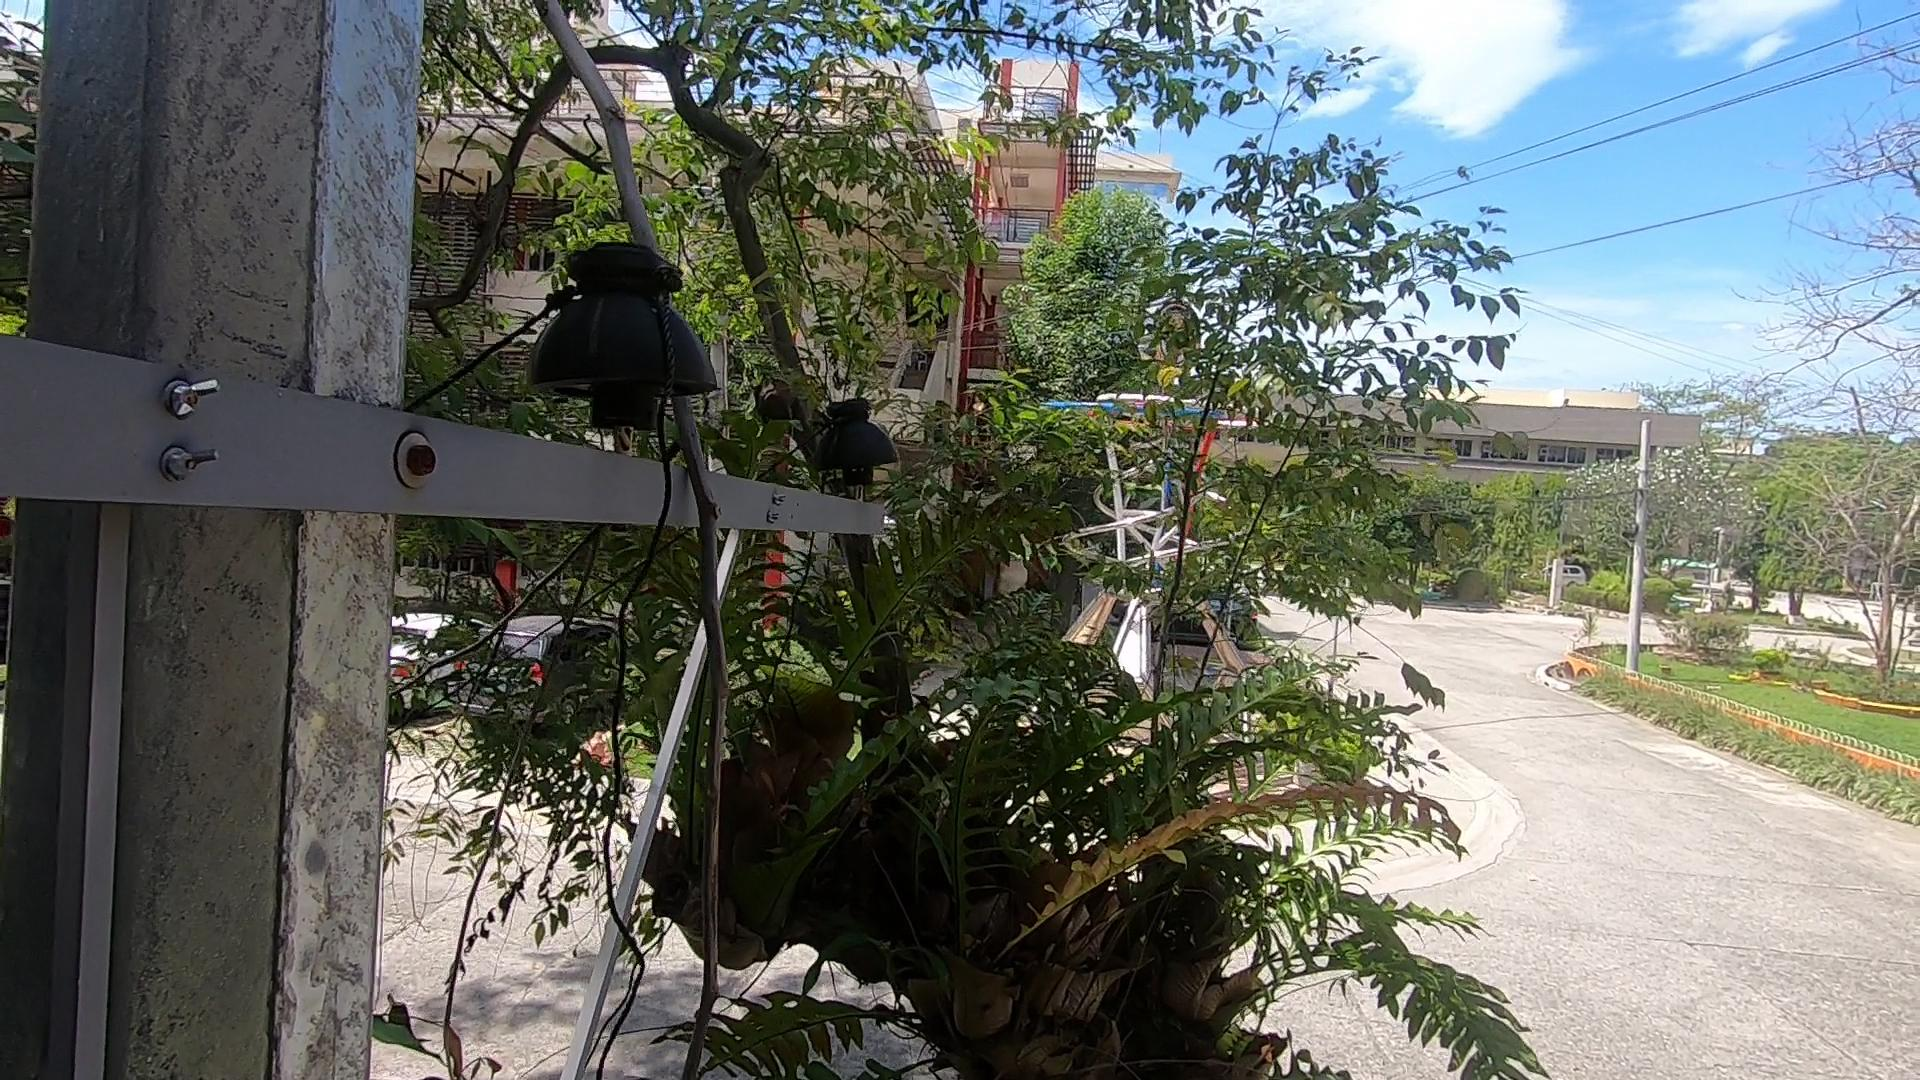tree branch: (463, 1, 811, 1069)
